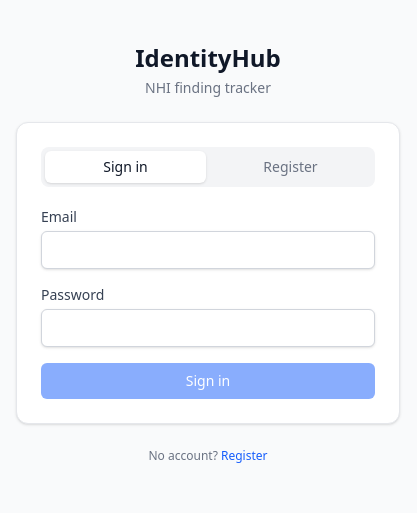
Test: LoginPage — error mapping on submit › shows the raw error message for an unrecognised error code
In the field labelled "Email": (208, 250) [41,231,375,269], type "a@b.com"
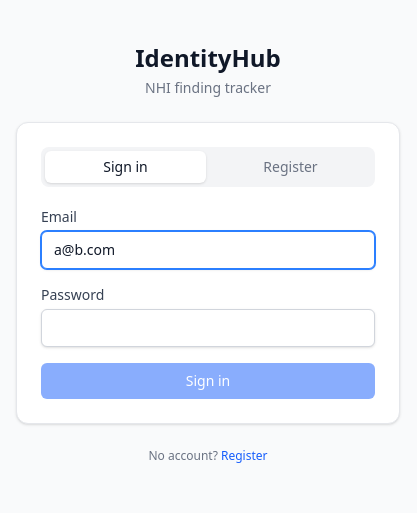
In the password field labelled "Password": (208, 328) [41,309,375,347], type "pw"
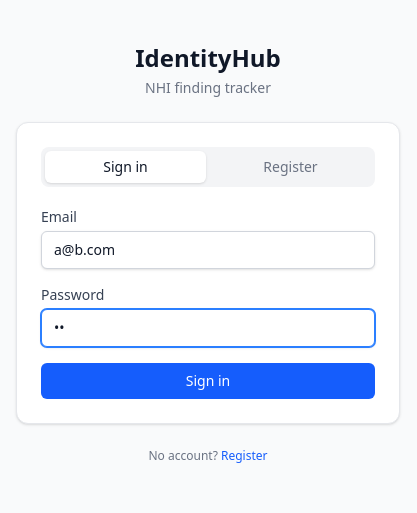
Click the button "Sign in" below "Password": (208, 381) [41,363,375,399]
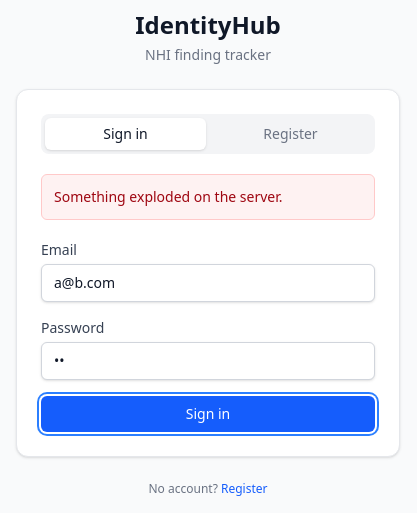
Expected: the text "Something exploded on the server." is shown, [54,187,282,206]
